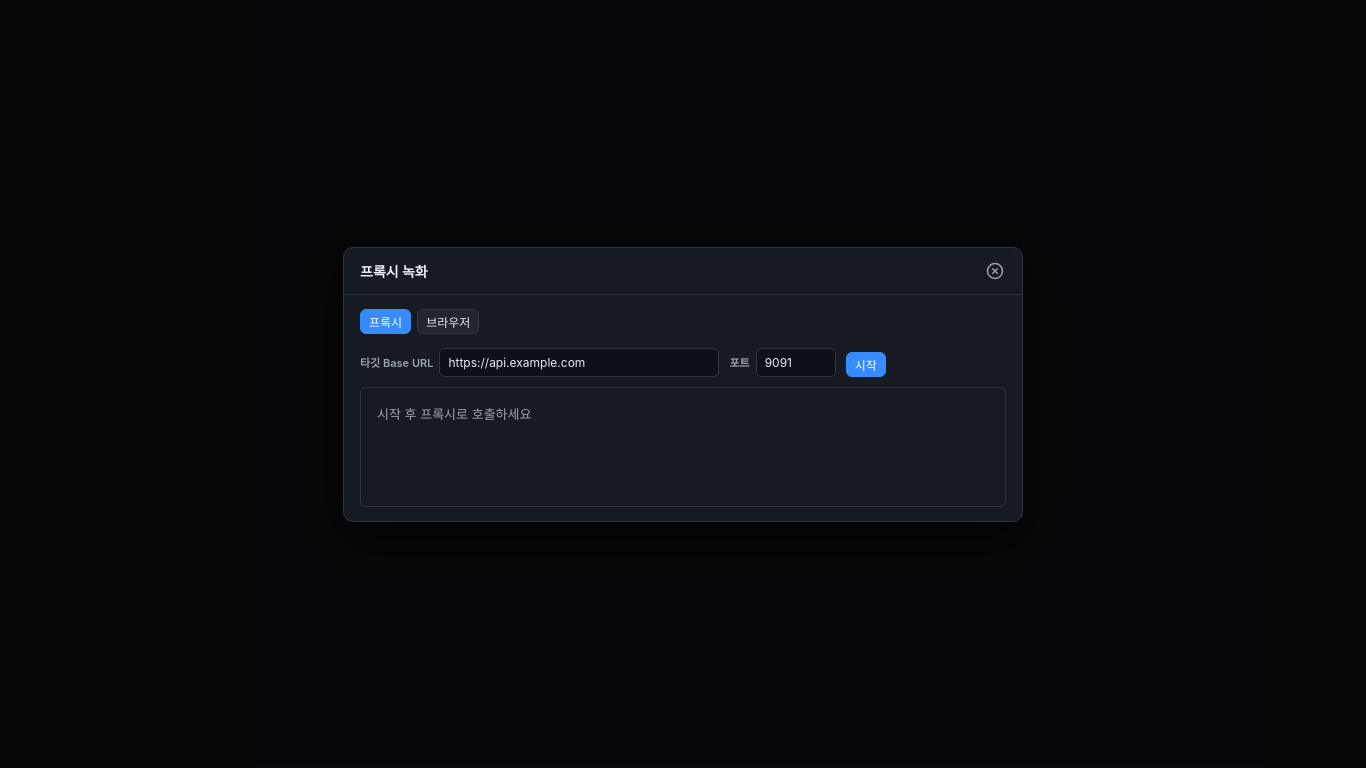
Scenario: ProxyModal 브라우저 모드 › 브라우저 탭 클릭 시 시작 URL 입력과 시작 버튼을 표시한다
This screenshot has width=1366, height=768.
Click the button "브라우저" at (448, 321), box [417,308,479,334]
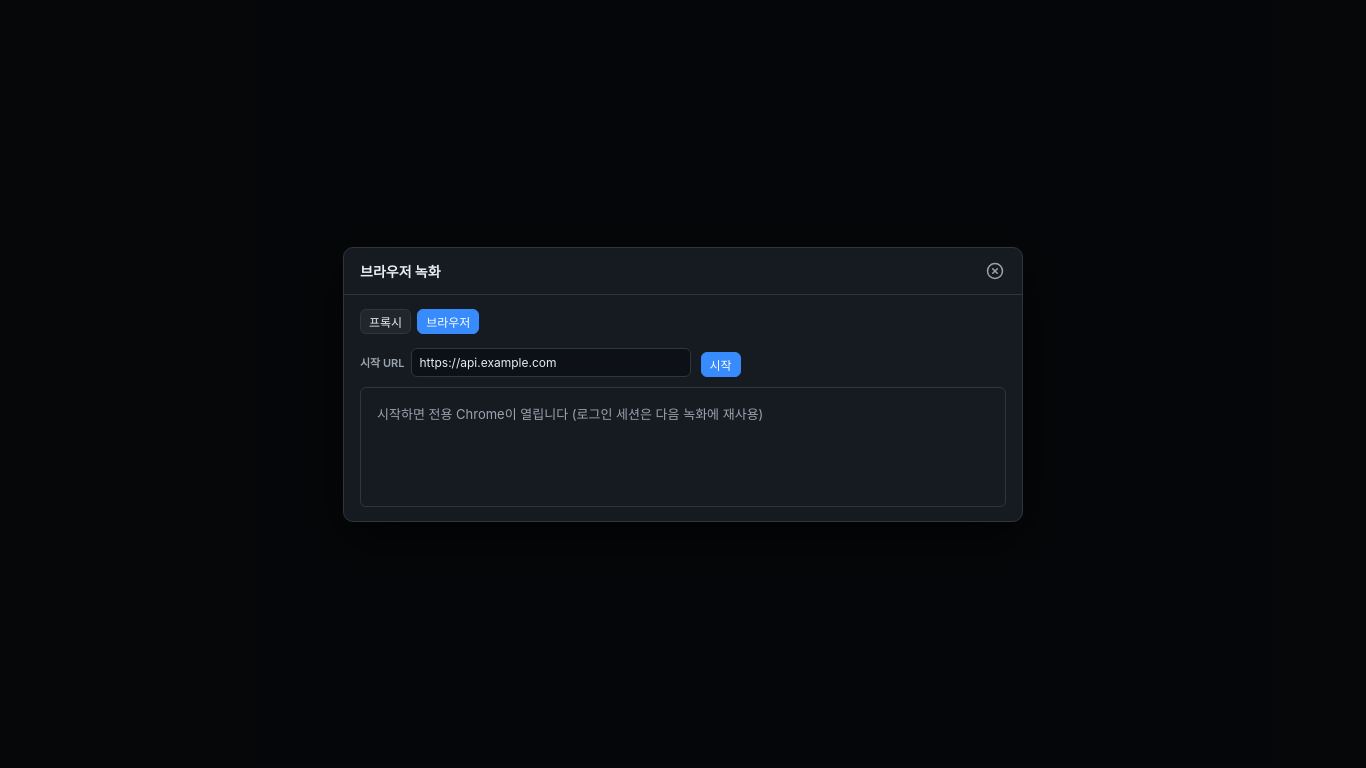
Expected: the button "시작" is shown, [700,352,741,376]
Expected: the field with placeholder "https://service.example.com" is shown, [410,348,690,376]
